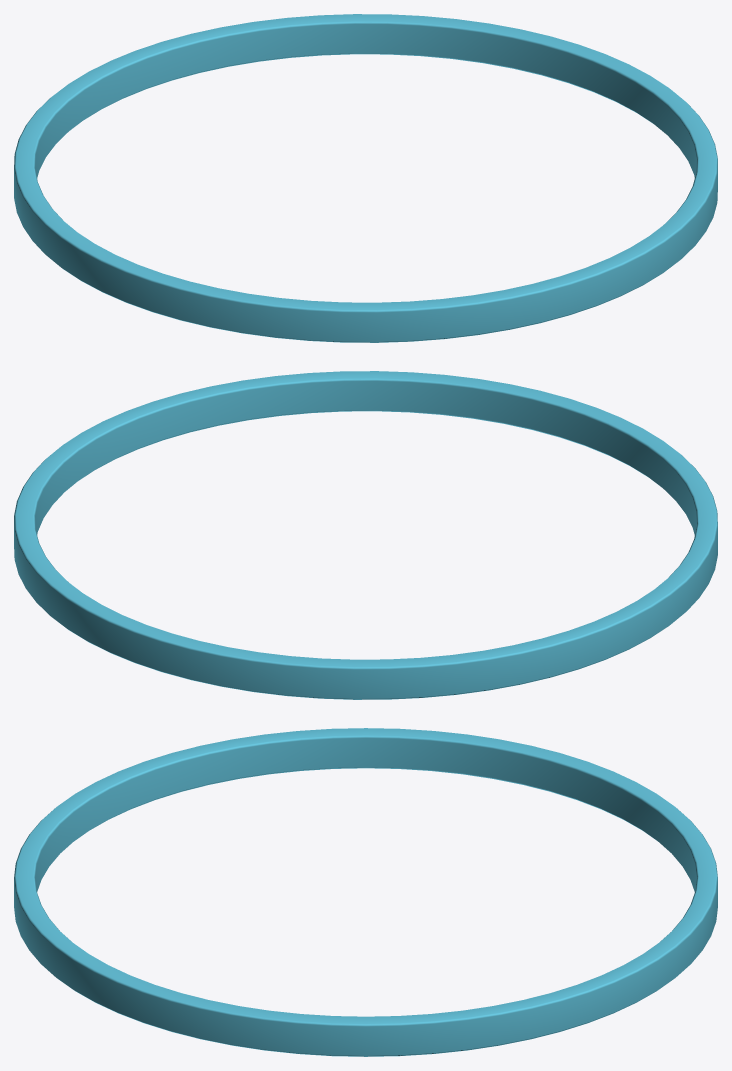
3 views of the same model, one above another, from view 1: azimuth 30°, elevation 25°; view 2: azimuth 150°, elevation 25°; view 3: azimuth 270°, elevation 25° (orthographic).
Visible parts, largest first — view 1: seal_body; view 2: seal_body; view 3: seal_body.
Boxes of the visible parts, x1=… form: seal_body: x1=14, y1=14, x2=717, y2=342; seal_body: x1=14, y1=371, x2=717, y2=699; seal_body: x1=14, y1=728, x2=717, y2=1056.
Size of the model in its own units: 0.1543 by 0.008 by 0.1543.
